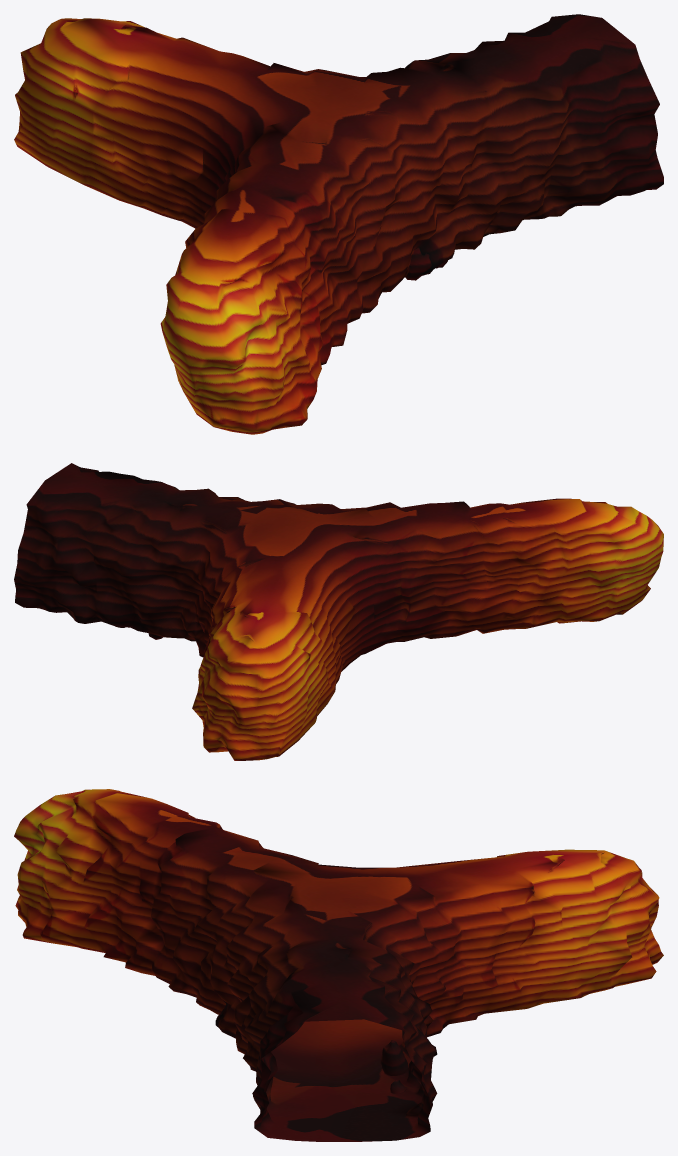
The model's file is cave.glb.
3 views of the same model, one above another, from view 1: azimuth 30°, elevation 25°; view 2: azimuth 150°, elevation 25°; view 3: azimuth 270°, elevation 25° (orthographic). The views are drawn at different scales.
Visible parts, largest first — view 1: Cave; view 2: Cave; view 3: Cave.
Part boxes in pixels (x1,y1,x2,y2): Cave: (14, 14, 663, 434); Cave: (14, 463, 663, 760); Cave: (14, 789, 663, 1141).
Size of the model in its own units: 46.45 by 11.65 by 49.24.
1 material, 1 textured.
